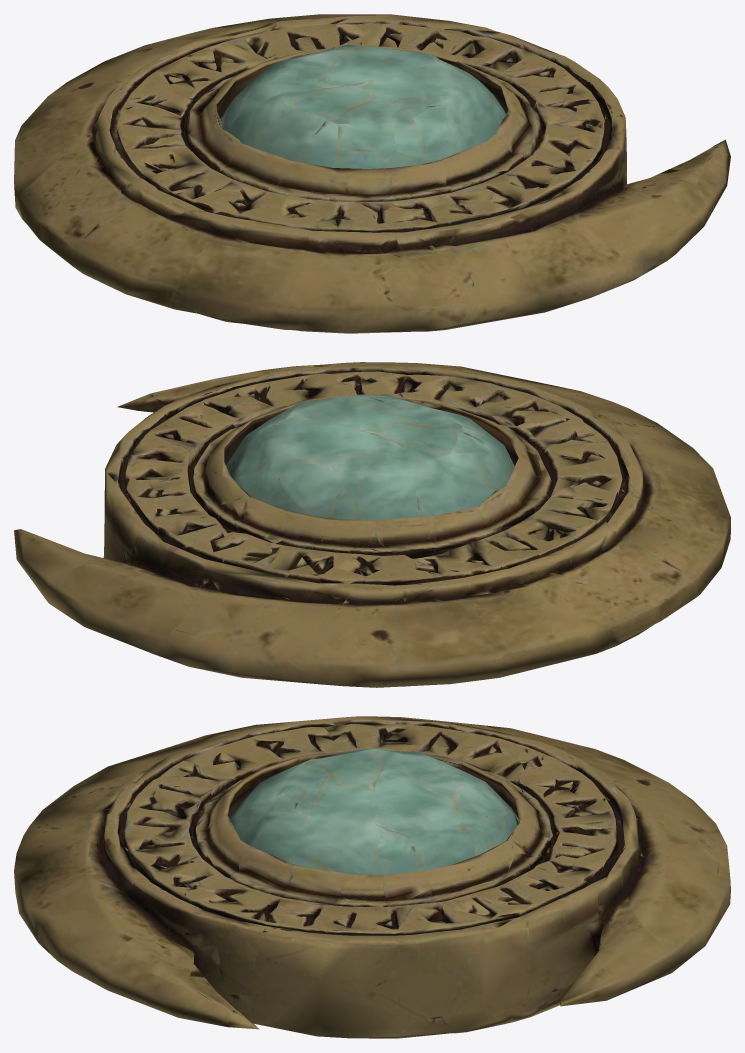
The model's file is pendant.8cde11ff.glb.
3 renders of one model, top to bottom at view 1: azimuth 30°, elevation 25°; view 2: azimuth 150°, elevation 25°; view 3: azimuth 270°, elevation 25°, orthographic.
Visible parts, largest first — view 1: item; view 2: item; view 3: item.
Part boxes in pixels (bbox=[...]): item: bbox=[14, 14, 730, 333]; item: bbox=[14, 362, 730, 687]; item: bbox=[14, 716, 730, 1038].
Bounding box in the file's own units: 0.0697 × 0.0153 × 0.0699.
1 material, 1 textured.
